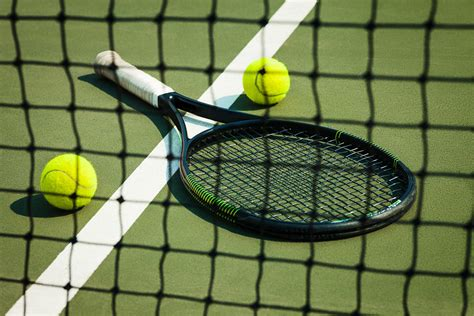tennis_ball: (40, 153, 98, 210), (242, 56, 290, 106)
